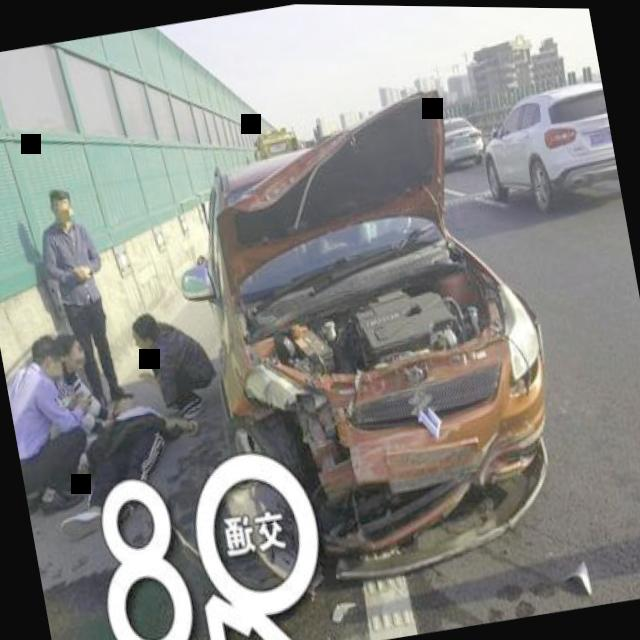Fall-Detected: (28, 375, 220, 548)
